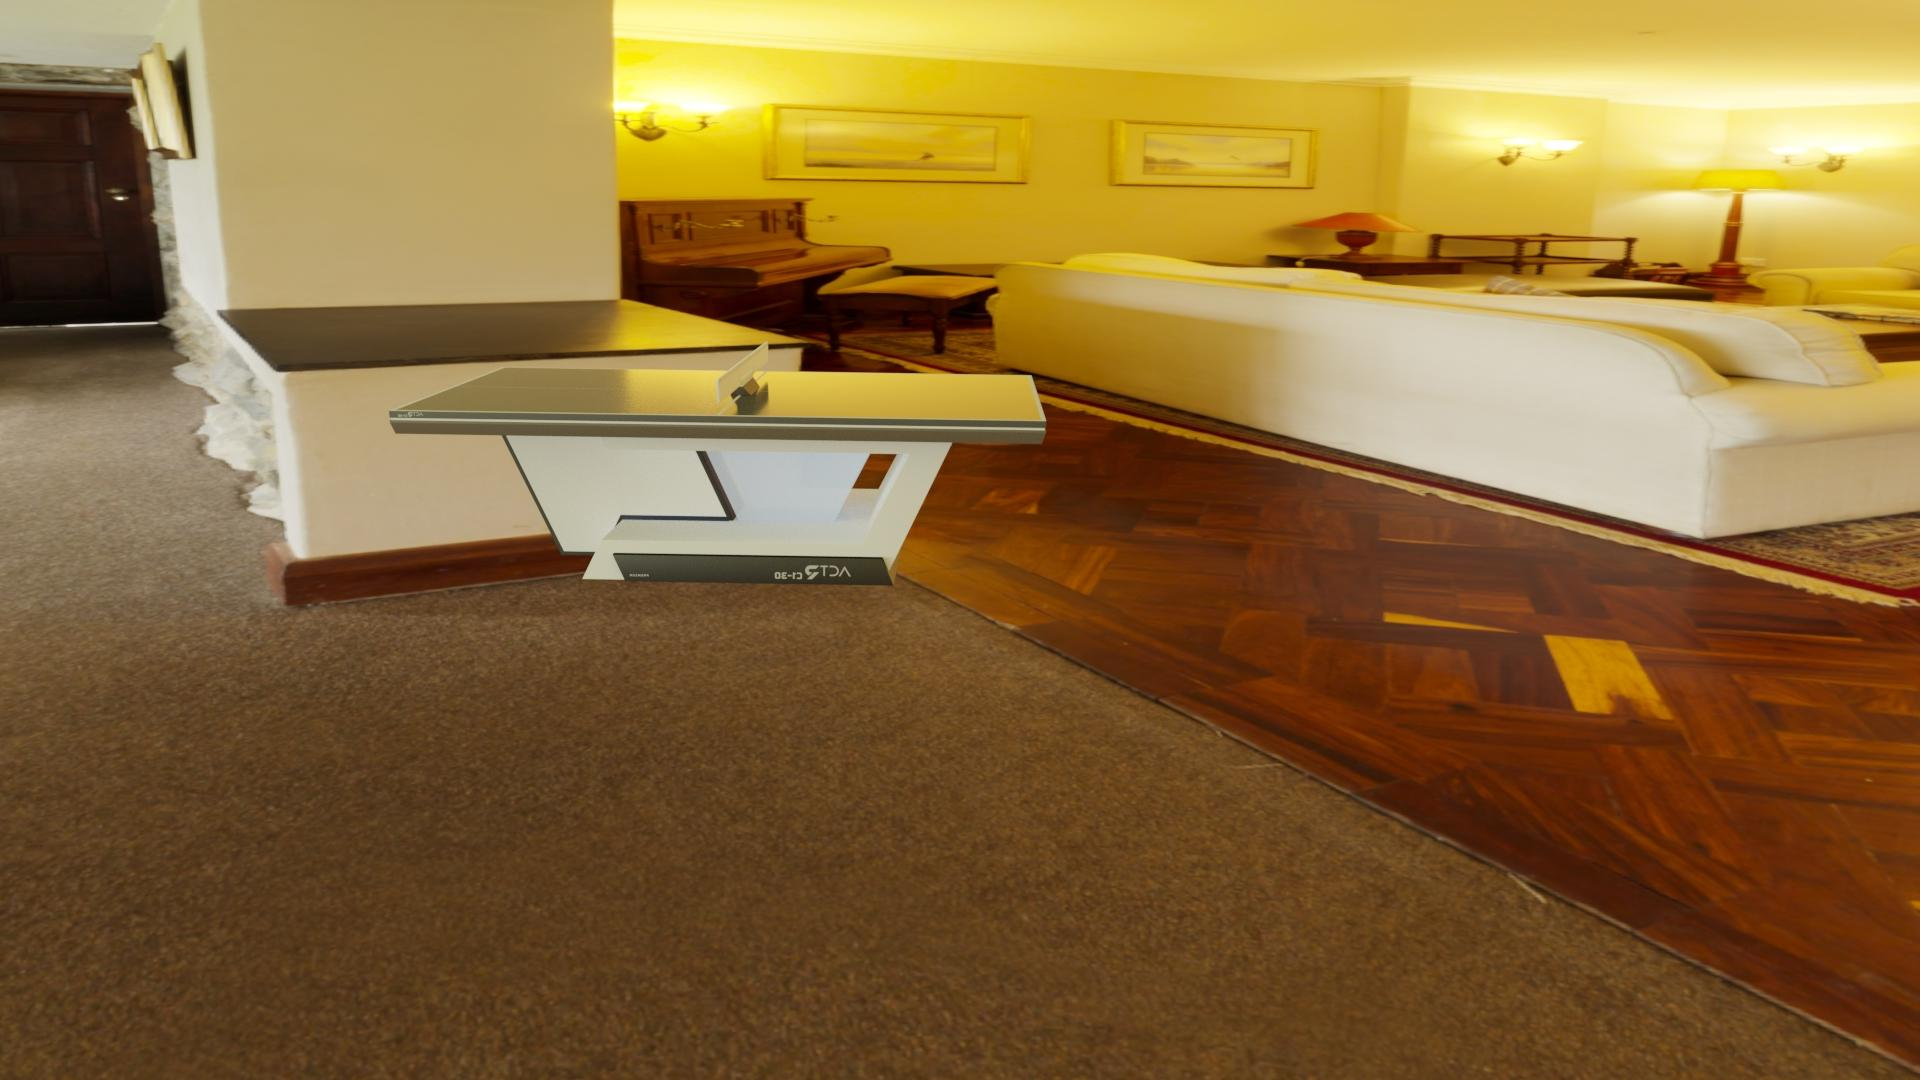table: (396, 368, 1042, 421)
